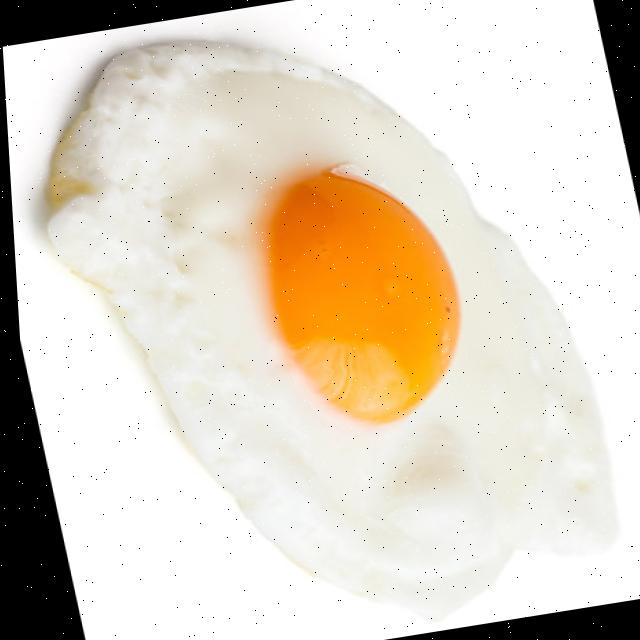Egg: (46, 40, 609, 620)
